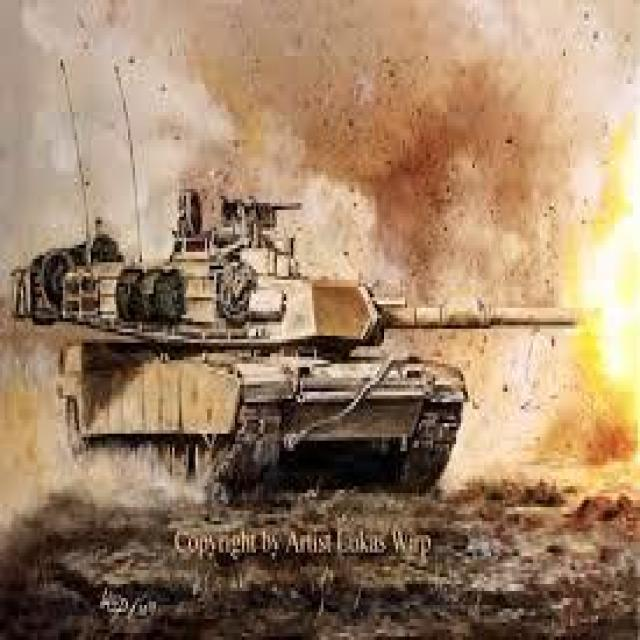Tanks: (8, 89, 527, 568)
